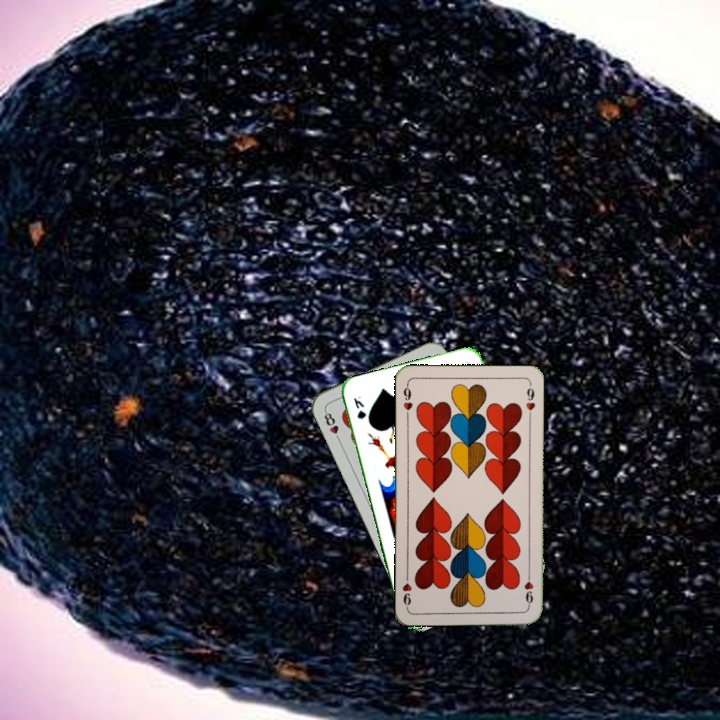GK: (349, 392, 368, 422)
H8: (320, 406, 343, 445)
H9: (399, 380, 415, 421), (520, 569, 536, 609)
